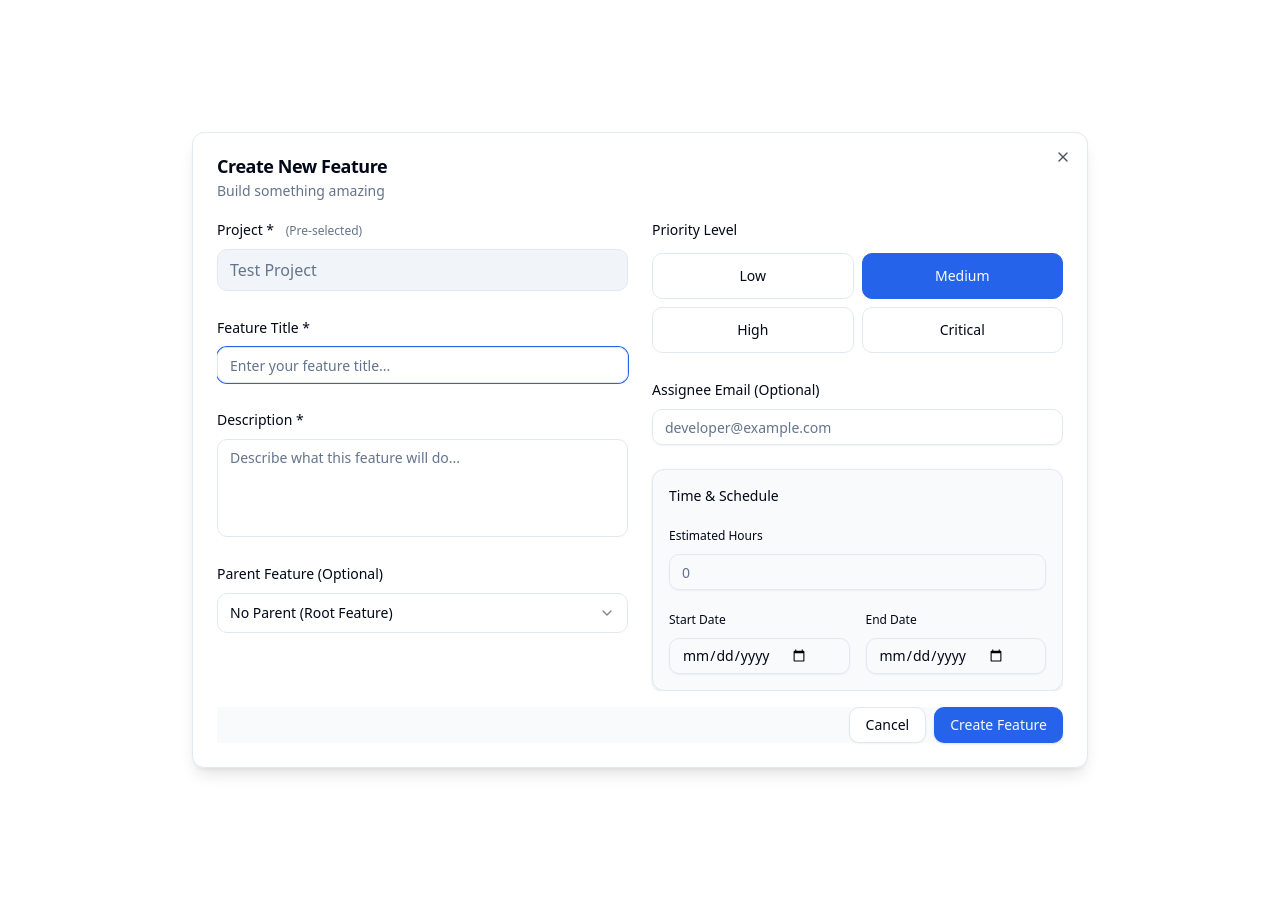
FeatureForm - Date Saving Functionality › Date validation against project boundaries › should validate start_date against project boundaries
This screenshot has width=1280, height=900.
Type "Test Feature" into the field labelled "Feature Title *".
click(422, 365); type("Test Feature")  # box top-left (217, 347), bottom-right (628, 383)
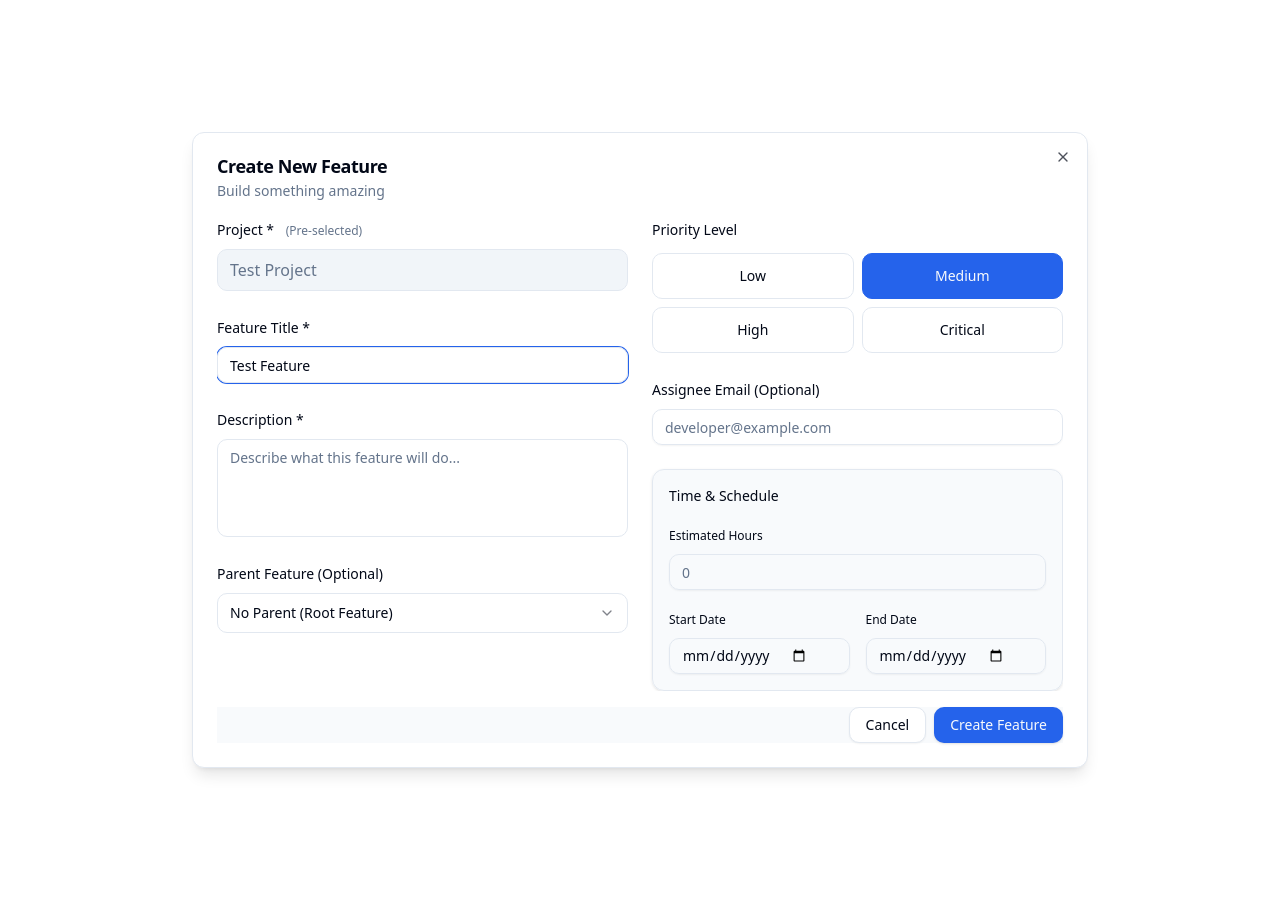
Type "Test description" into the text box labelled "Description *".
click(422, 488); type("Test description")  # box top-left (217, 439), bottom-right (628, 537)
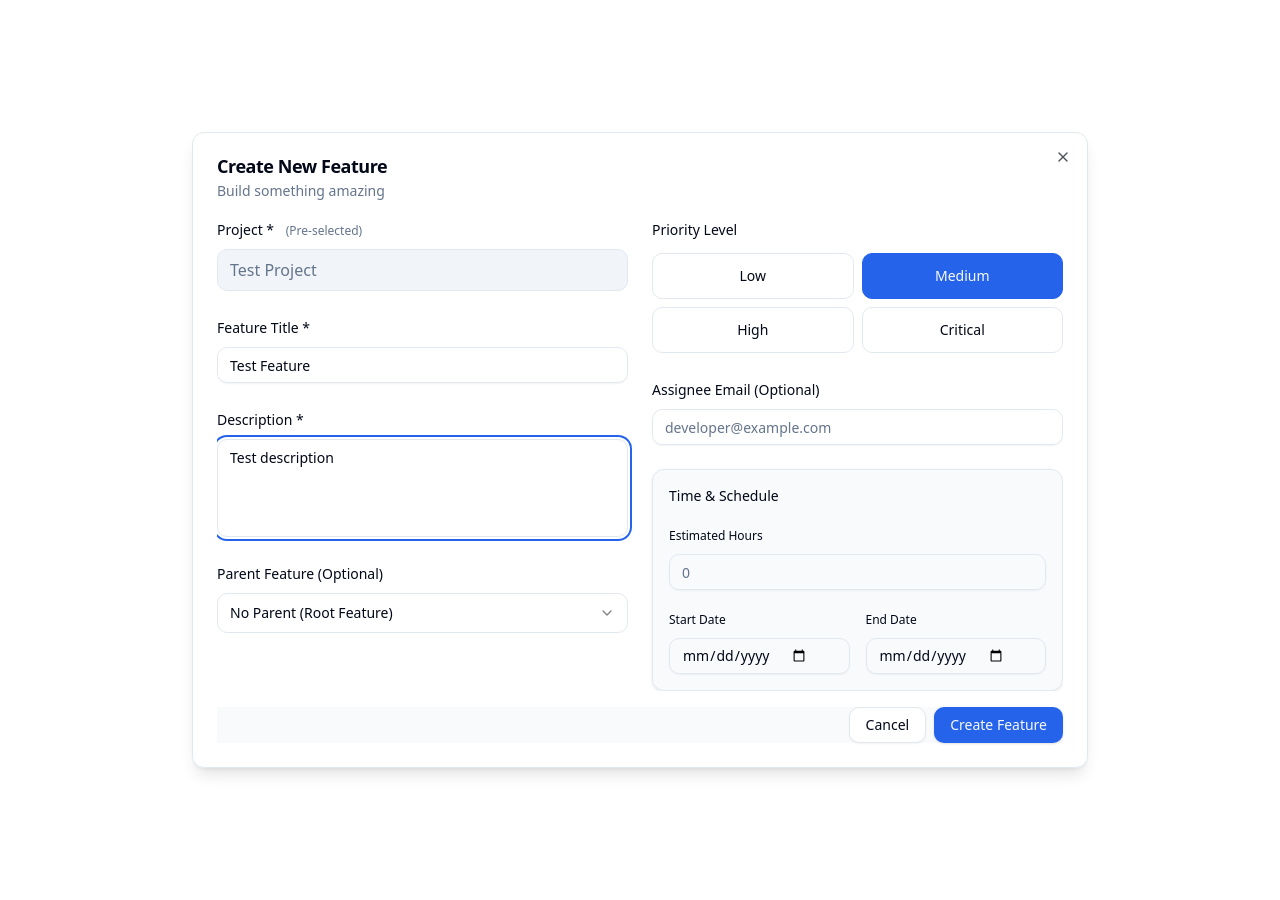
Type "2023-12-01" into the date field labelled "Start Date".
click(759, 656); type("2023-12-01")  # box top-left (669, 638), bottom-right (850, 674)
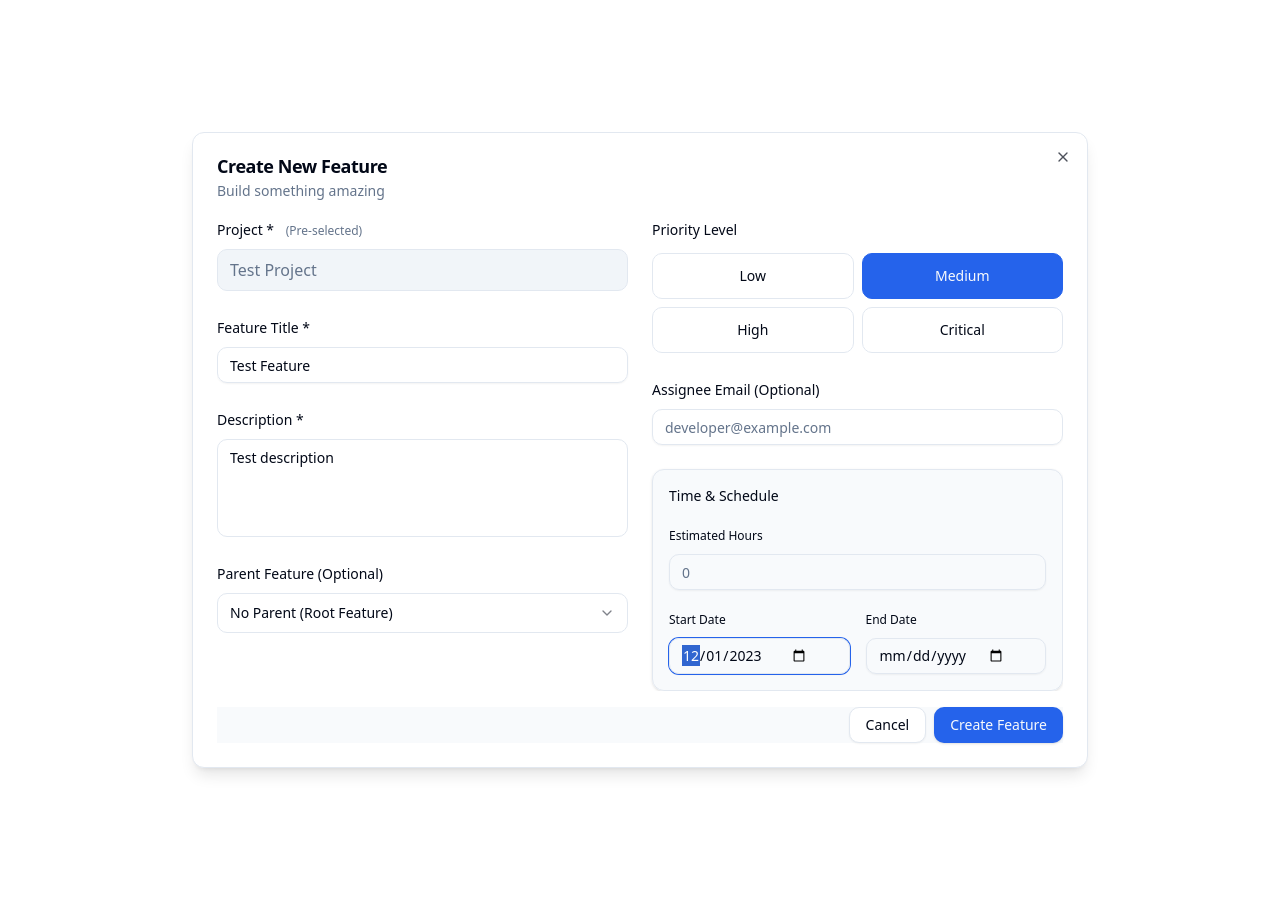
Click the button "Create Feature".
click(999, 725)  # box top-left (934, 707), bottom-right (1063, 743)
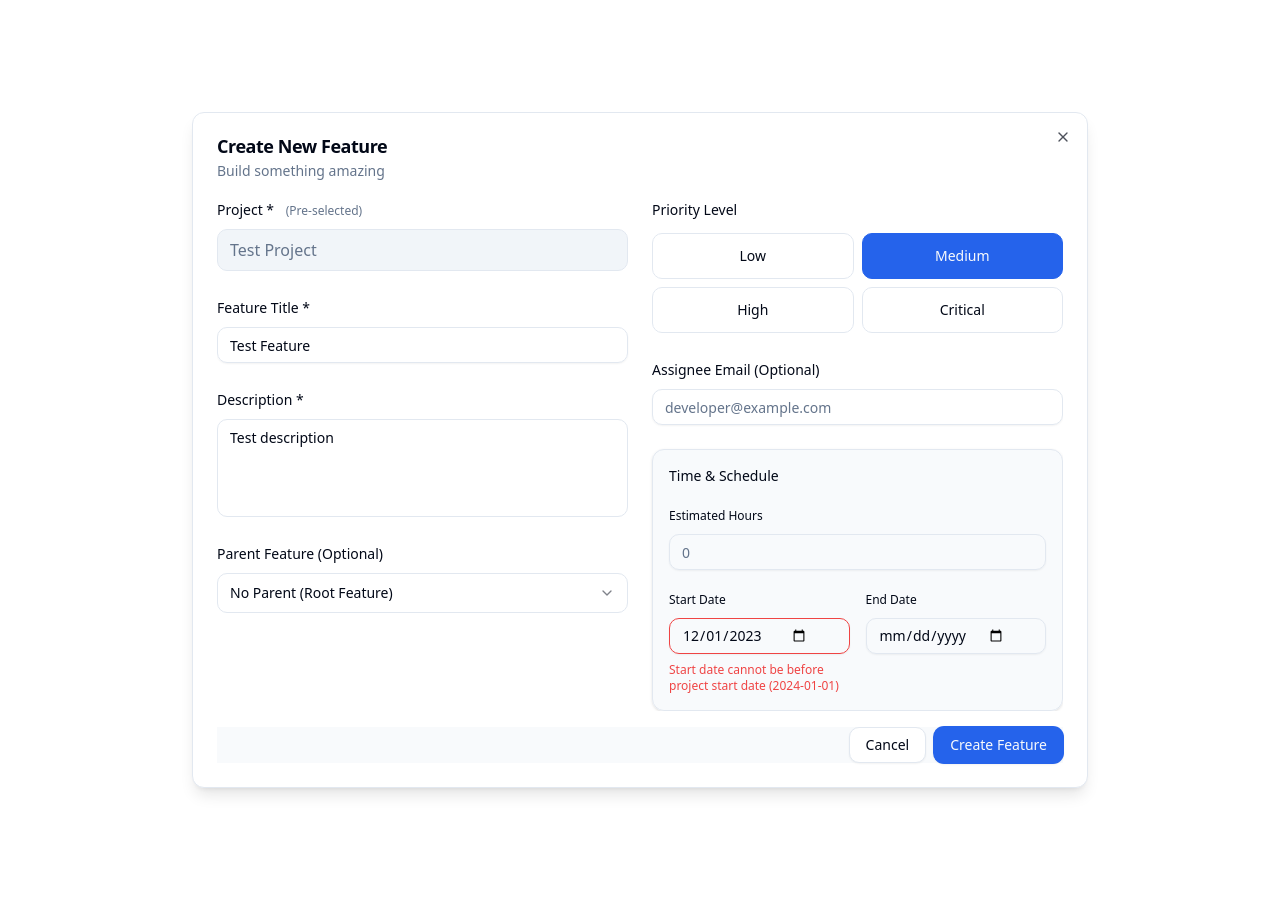
Expected: the text "Start date cannot be before project start date (2024-01-01)" is shown, top-left (669, 662), bottom-right (850, 694)
